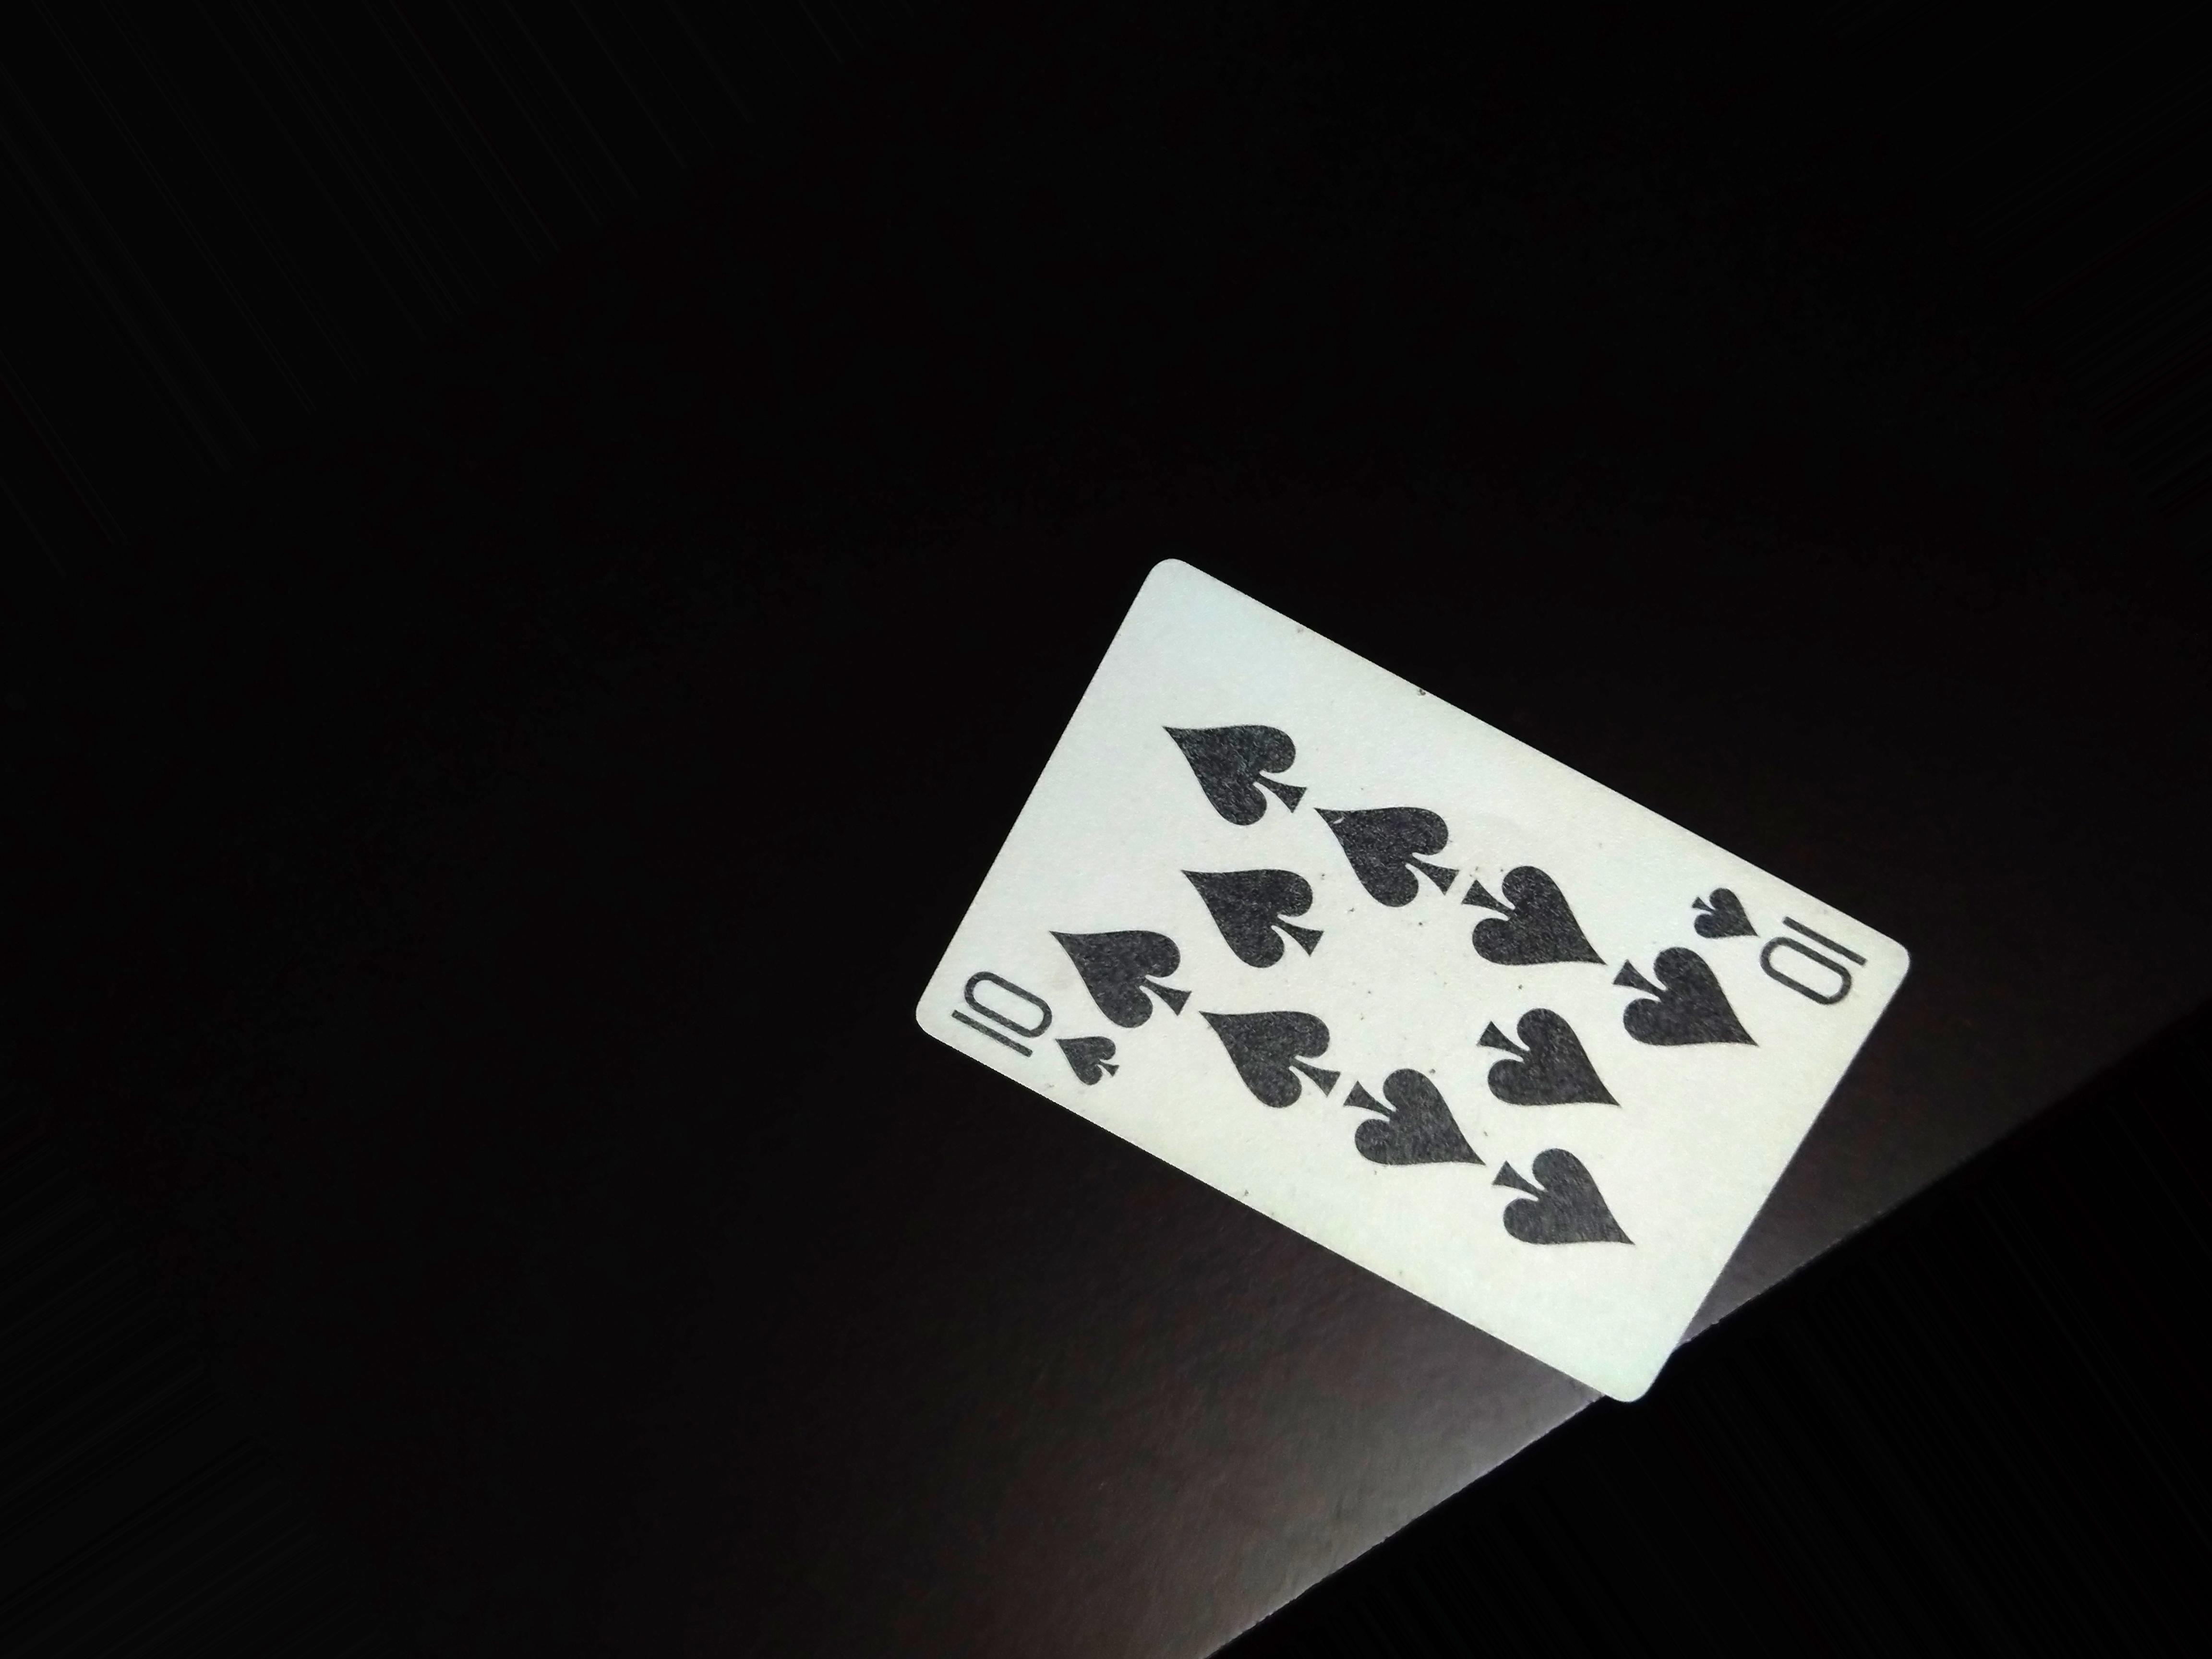10S: (944, 972, 1118, 1077)
